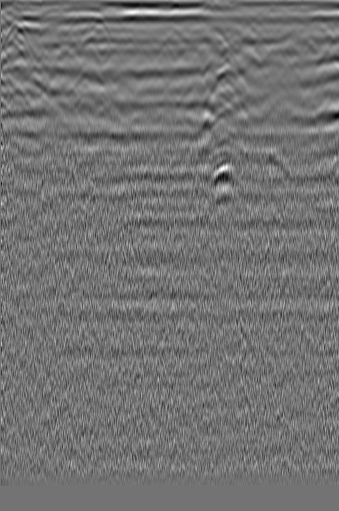가스: (202, 160, 237, 196)
상수: (41, 45, 82, 80)
오수: (289, 37, 318, 67)
우수: (154, 27, 201, 63)
